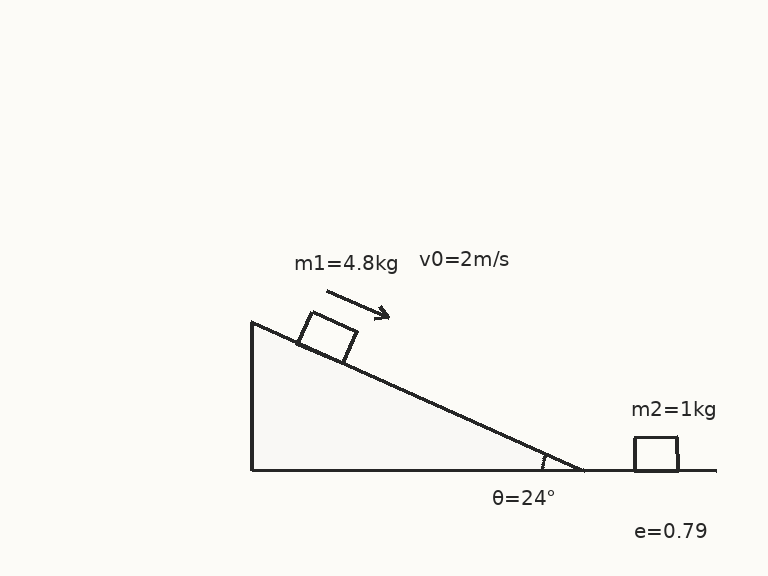block: (295, 309, 358, 365), (632, 436, 680, 472)
ramp: (249, 321, 584, 472)
